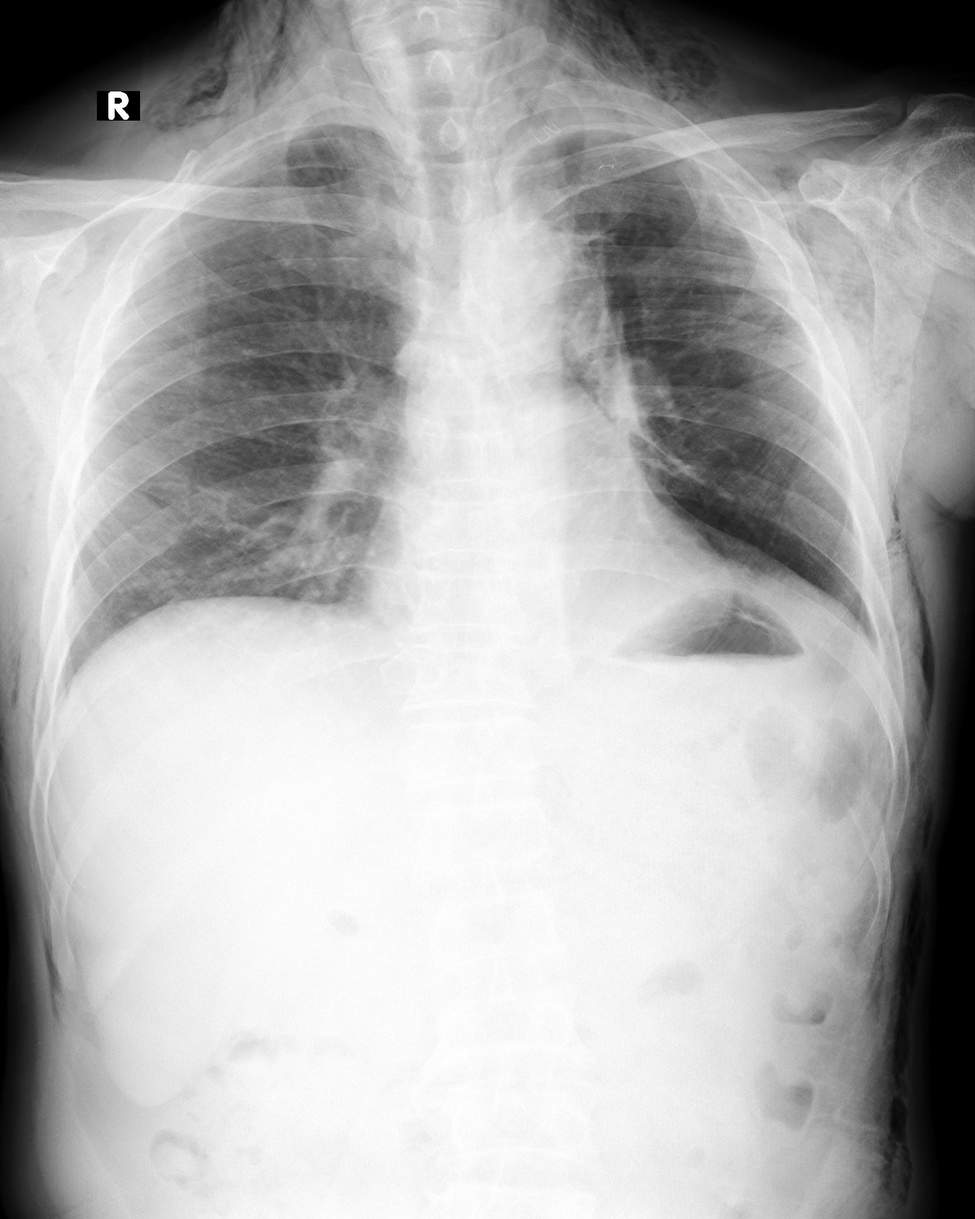Aortic enlargement: (452, 219, 571, 325)
Pleural thickening: (501, 104, 671, 138), (198, 128, 331, 156)
Pulmonary fibrosis: (573, 261, 719, 498)
